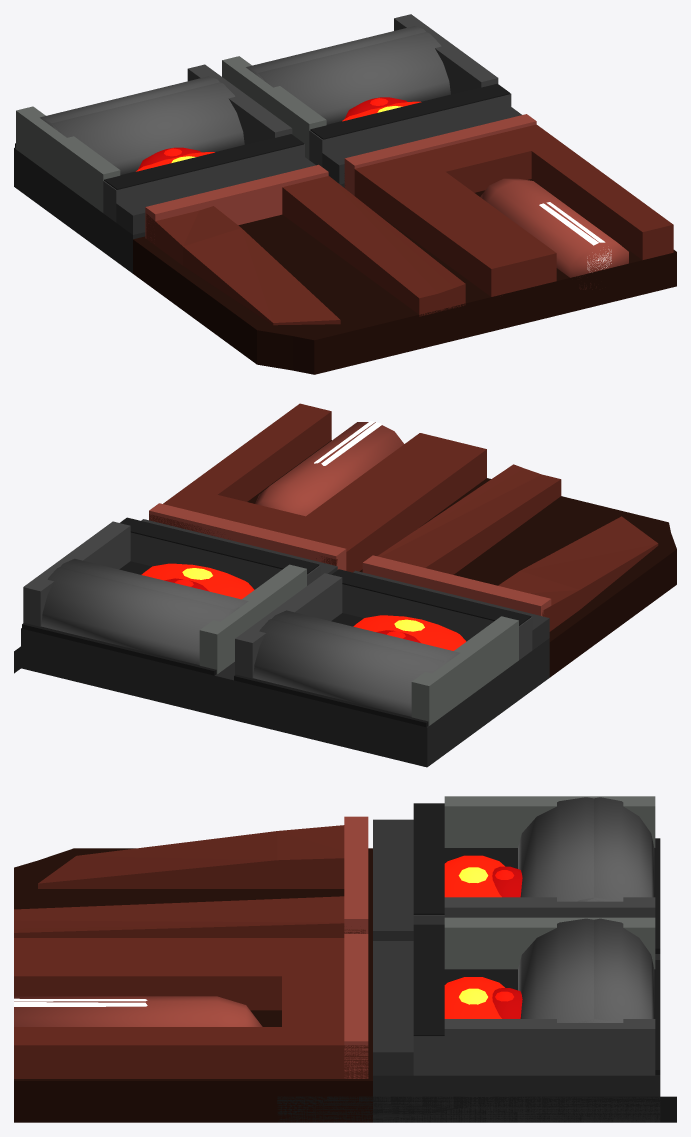
File: newshf-165.glb
3 views of the same model, one above another, from view 1: azimuth 30°, elevation 25°; view 2: azimuth 150°, elevation 25°; view 3: azimuth 270°, elevation 25° (orthographic). The views are drawn at different scales.
Parts seen in each view (by area): view 1: newshf-165, newshf-165-lamps-bright, newshf-165-lamps-off, newshf-165-lamps-dim; view 2: newshf-165, newshf-165-lamps-off, newshf-165-lamps-bright, newshf-165-lamps-open; view 3: newshf-165, newshf-165-lamps-bright, newshf-165-lamps-off, newshf-165-lamps-dim, newshf-165-lamps-open.
Part boxes in pixels (x1,y1,x2,y2): newshf-165: (14,14,676,374); newshf-165-lamps-bright: (43,32,510,189); newshf-165-lamps-off: (40,26,425,131); newshf-165-lamps-dim: (138,97,407,169); newshf-165: (14,403,676,767); newshf-165-lamps-off: (41,567,450,716); newshf-165-lamps-bright: (60,517,531,670); newshf-165-lamps-open: (22,623,428,727); newshf-165: (14,796,676,1122); newshf-165-lamps-bright: (413,797,614,1036); newshf-165-lamps-off: (577,797,654,1022); newshf-165-lamps-dim: (492,866,522,1018); newshf-165-lamps-open: (654,838,660,1075).
Bounding box in the file's own units: 1.92 × 0.38 × 2.31.
